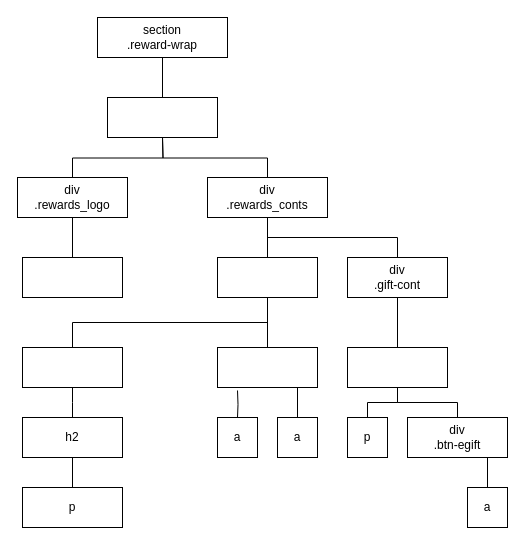
This 525x545 diagram has some shape labels left out. The shapes that lost their labels are listed below. From the top down, each one's centre as x and y in pixels, then its label:
At pixel 162 117: "div .reward-inner".
At pixel 72 277: "img".
At pixel 267 277: "div .info-cont".
At pixel 72 367: "div .info-text".
At pixel 267 367: "div .info-btn-group".
At pixel 397 367: "div .gift-text".
